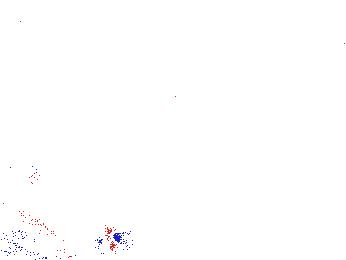red belly glassfish: (21, 163, 52, 184), (99, 226, 118, 252)
redtail glassfish: (1, 208, 83, 258)
